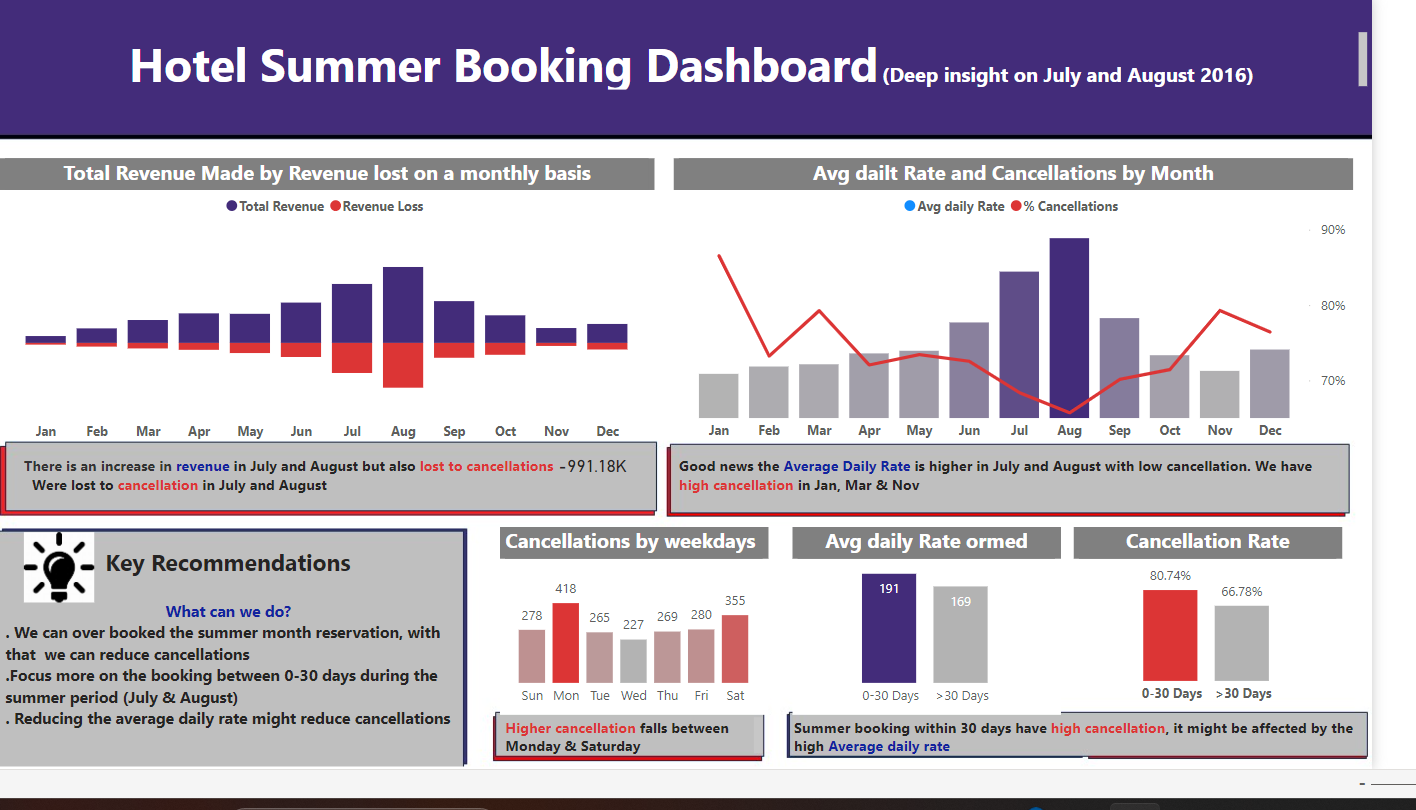

What the dashboard file says about the page in this screenshot:
{"tool":"powerbi","page":{"name":"Page 1","canvas":[1280,720],"ordinal":0},"visuals":[{"type":"columnChart","title":"Total Revenue Made by Revenue lost on a monthly basis","fields":{"Y":["All Measure.Total Revenue","All Measure.Lost Revenue"],"Category":["Calender.Month"]},"box":[0,150,610,272.9],"z":0},{"type":"lineStackedColumnComboChart","title":"Avg dailt Rate and Cancellations by Month","fields":{"Category":["Calender.Month"],"Y2":["All Measure.% Cancellations"],"Y":["All Measure.Avg daily Rate"]},"box":[628.8,150,633.8,272.5],"z":1},{"type":"columnChart","title":" Cancellation Rate","fields":{"Category":["HotelRam Data.Transformed LeadTime "],"Y":["All Measure.% Cancellations"]},"box":[1001.2,493.8,250,173.8],"z":2},{"type":"columnChart","title":"Avg daily Rate ormed","fields":{"Category":["HotelRam Data.Transformed LeadTime "],"Y":["All Measure.Avg daily Rate"]},"box":[739.5,494.2,250,175.6],"z":3},{"type":"columnChart","title":" Cancellations by weekdays","fields":{"Category":["Calender.weeekdays"],"Y":["All Measure.Total cancellations"]},"box":[466.3,494.2,250,175.6],"z":4},{"type":"textbox","box":[17.5,27.5,1262.5,63.8],"z":5},{"type":"textbox","box":[17.1,422.9,508.6,54.3],"z":7},{"type":"textbox","box":[628.4,423,623,54.1],"z":8},{"type":"textbox","box":[466.7,666.7,250,44.4],"z":9},{"type":"textbox","box":[735.6,666.7,532.2,53.3],"z":10},{"type":"textbox","box":[0,557.1,425.7,162.9],"z":11},{"type":"image","box":[17.1,494.3,75.7,75.7],"z":12},{"type":"textbox","box":[92.9,507.1,300,50],"z":13},{"type":"card","fields":{"Values":["All Measure.Revenue Loss"]},"box":[495.7,411.4,114.3,54.3],"z":14}]}

Visuals, with their boxes in screenshot pixels (x1, y1, x2, y2), scaled from the page's 1280x720 canvas onto the 1416x810 screenshot:
"Total Revenue Made by Revenue lost on a monthly basis" columnChart: select_region(0, 169, 675, 476)
"Avg dailt Rate and Cancellations by Month" lineStackedColumnComboChart: select_region(696, 169, 1397, 475)
" Cancellation Rate" columnChart: select_region(1108, 556, 1384, 751)
"Avg daily Rate ormed" columnChart: select_region(818, 556, 1095, 754)
" Cancellations by weekdays" columnChart: select_region(516, 556, 792, 754)
textbox: select_region(19, 31, 1415, 103)
textbox: select_region(19, 476, 582, 537)
textbox: select_region(695, 476, 1384, 537)
textbox: select_region(516, 750, 793, 800)
textbox: select_region(814, 750, 1403, 809)
textbox: select_region(0, 627, 471, 809)
image: select_region(19, 556, 103, 641)
textbox: select_region(103, 570, 435, 627)
card - All Measure.Revenue Loss: select_region(548, 463, 675, 524)
